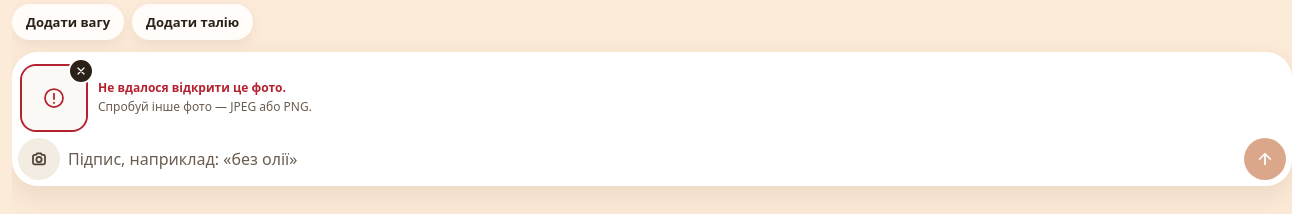
Test case: (4) sending with each photo state › error: with words sends only the text and drops the failed photo
Type "борщ" into the text box at (652, 159), box [68,139,1236,179]
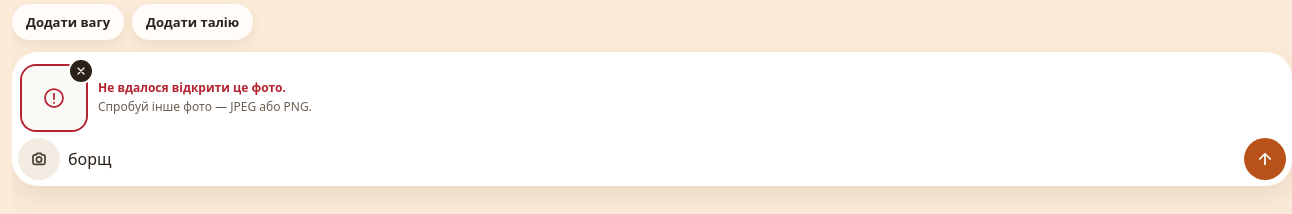
Check: the button named "Надіслати" is enabled
Click the button named "Надіслати" at (1265, 159), box [1244,138,1286,180]
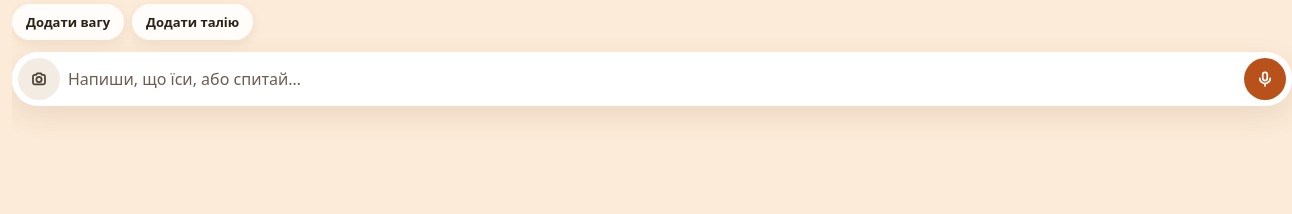
Check: the message "Не вдалося відкрити це фото. Спробуй інше фото — JPEG або PNG." is gone
